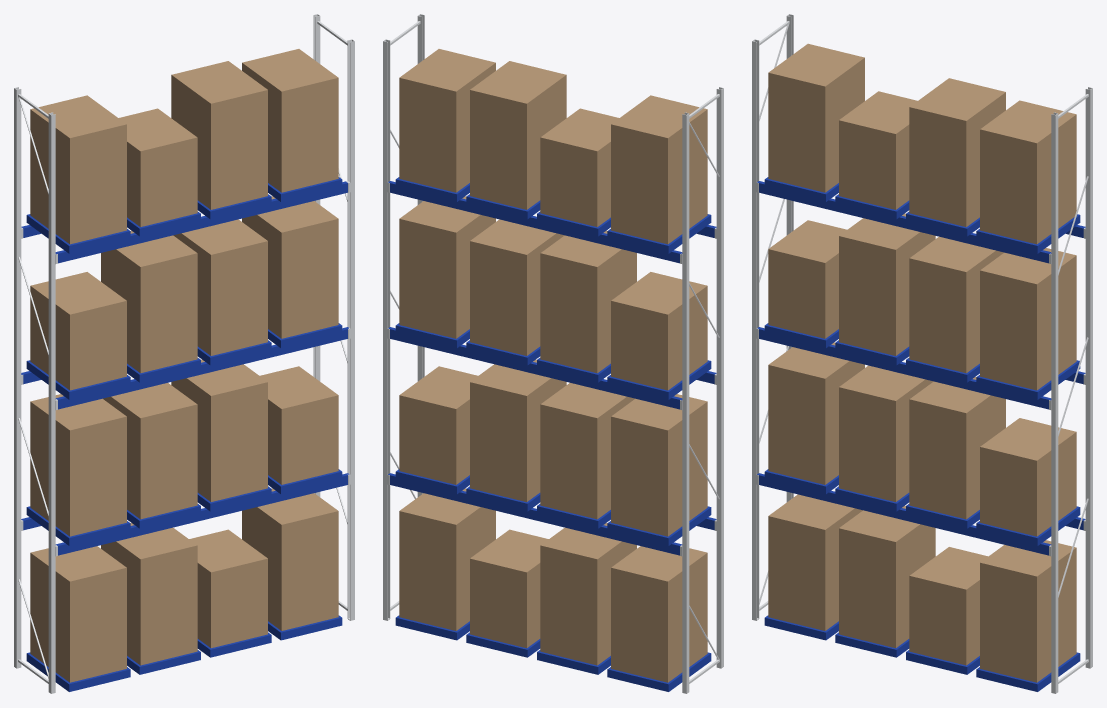
File: SM_MPR_Rack_42D_192_LOD2.fbx
The picture shows the model from 3 angles, left to right: view 1: azimuth 30°, elevation 25°; view 2: azimuth 150°, elevation 25°; view 3: azimuth 330°, elevation 25°; orthographic projection.
Parts seen in each view (by area): view 1: SM_MPR_Rack_42D_192_LOD2; view 2: SM_MPR_Rack_42D_192_LOD2; view 3: SM_MPR_Rack_42D_192_LOD2.
Boxes of the visible parts, left/top/right/bottom form: SM_MPR_Rack_42D_192_LOD2: left=14, top=14, right=354, bottom=693; SM_MPR_Rack_42D_192_LOD2: left=383, top=14, right=723, bottom=693; SM_MPR_Rack_42D_192_LOD2: left=752, top=14, right=1092, bottom=693.
Bounding box in the file's own units: 503 × 122 × 915.
